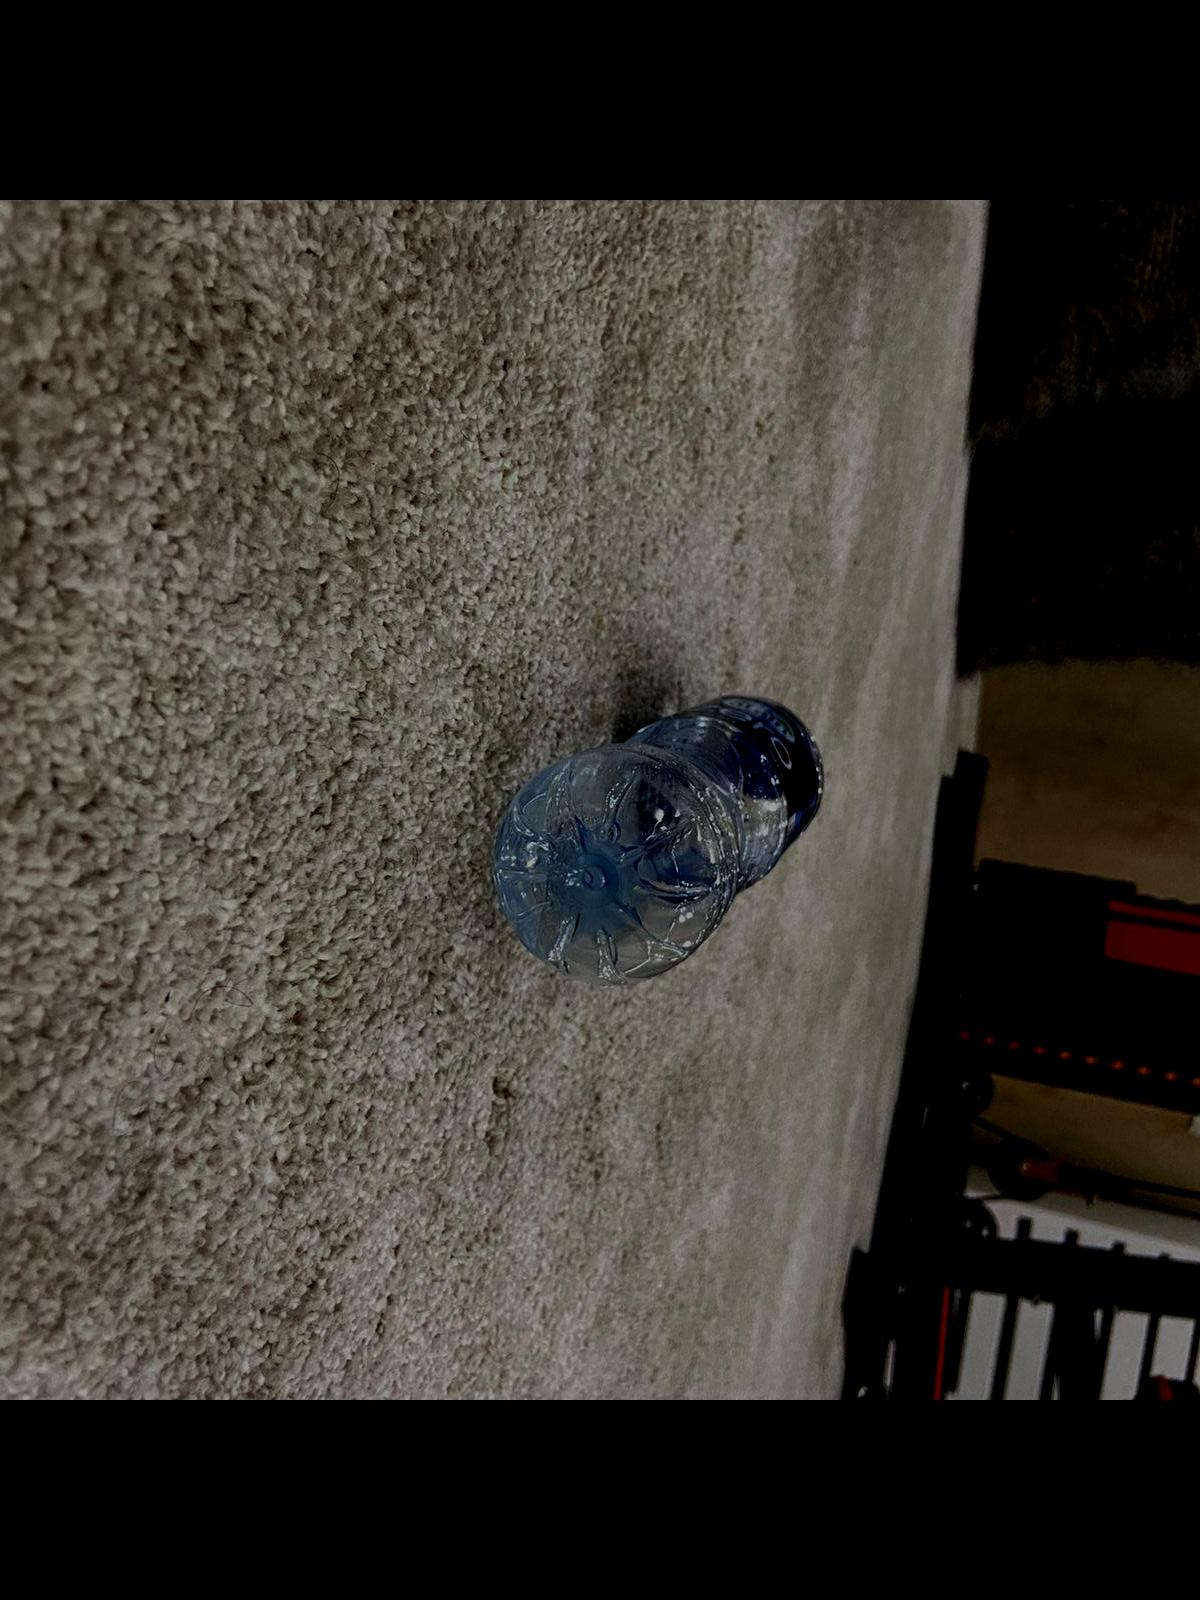bottle: (475, 688, 834, 994)
